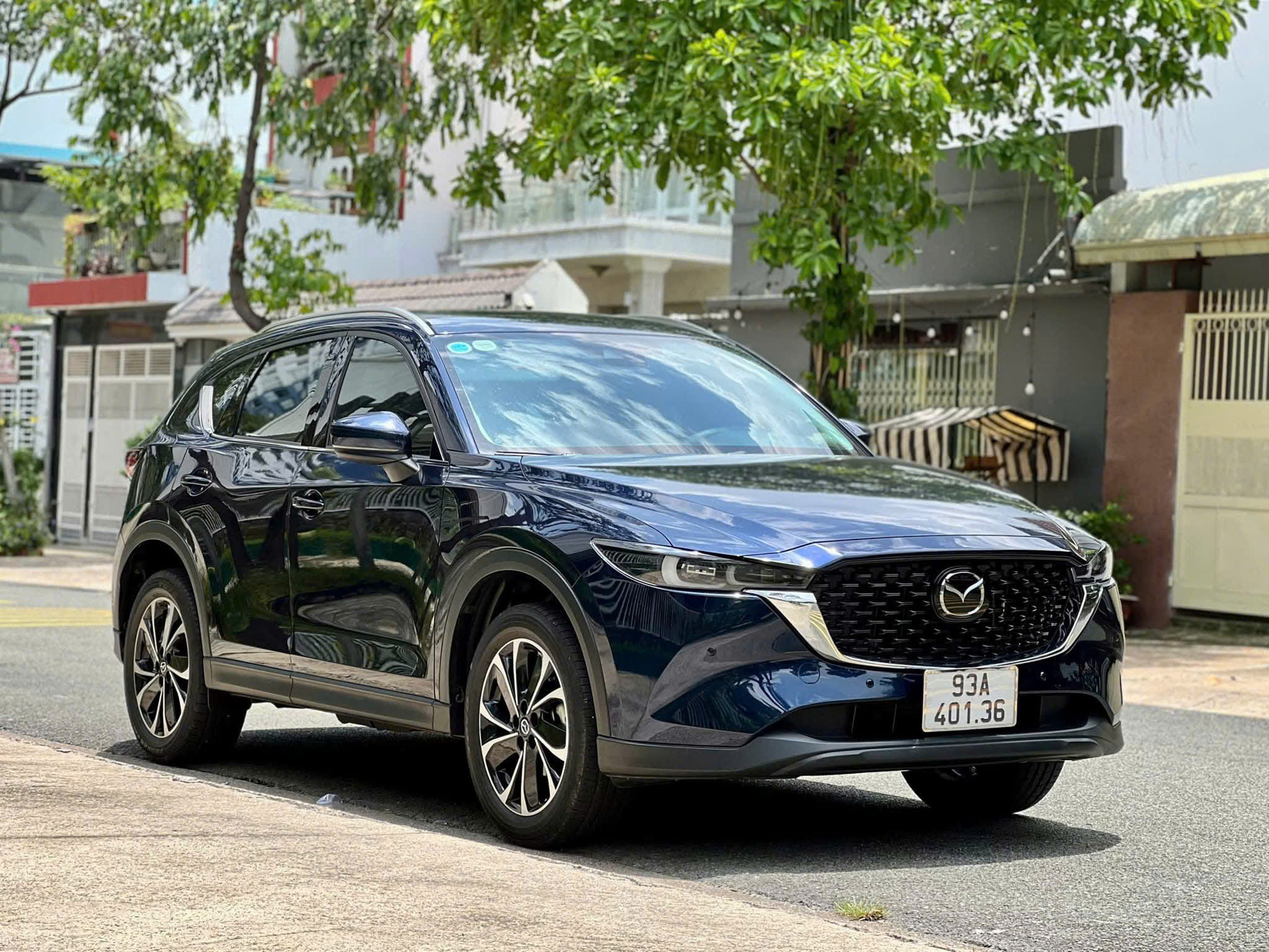Bien-so: (922, 665, 1021, 731)
